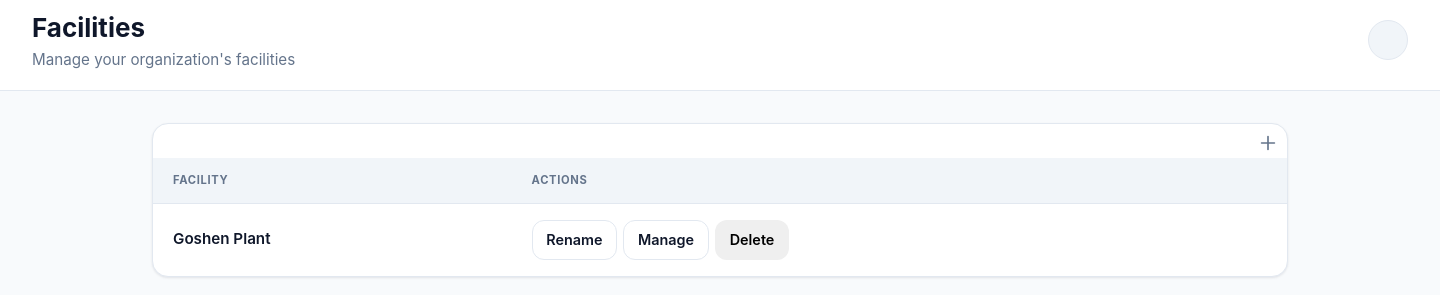
FacilitiesScreen — rename (inline edit) › renames an existing facility
Expected: the text "Goshen Plant" is shown, [173,229,270,248]
Click the button "Rename".
click(574, 240)  # box [532,220,617,260]
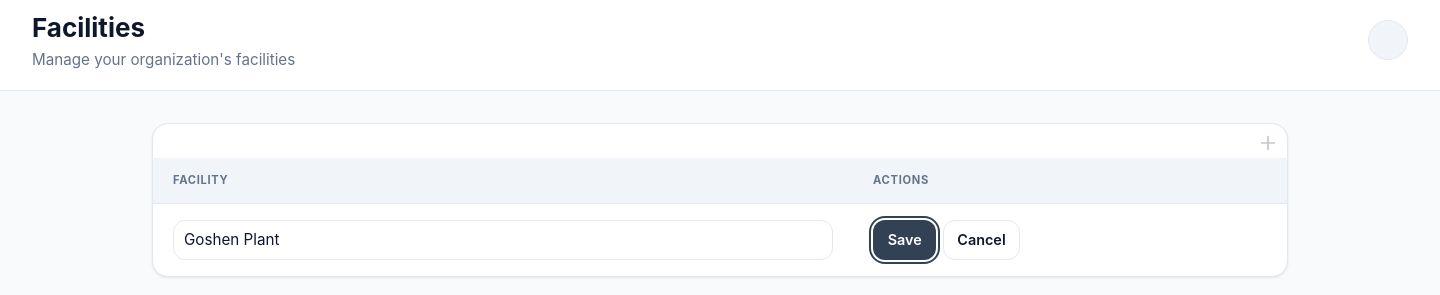
Replace the text in the field named "facility name" with "Goshen Asphalt Plant" at (503, 240), box [173,220,833,260]
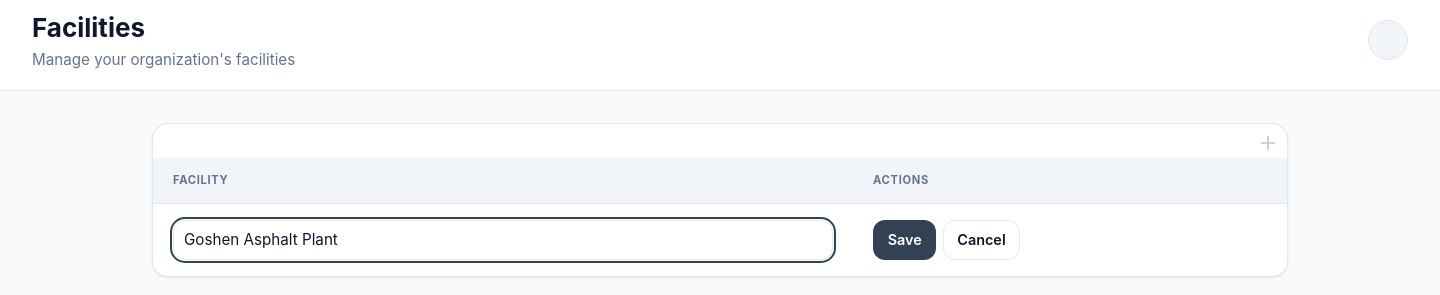
Click the button "Save".
click(905, 240)  # box [873,220,936,260]
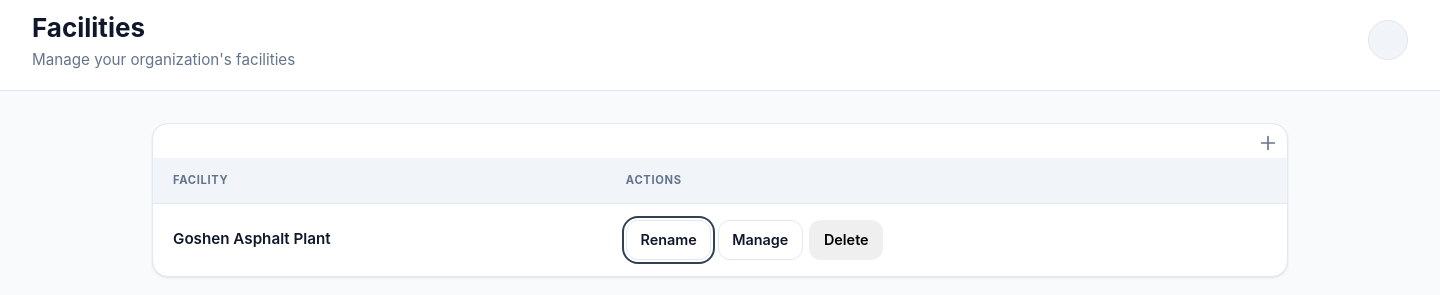
Result: the text "Goshen Asphalt Plant" is shown at [173,229,331,248]
